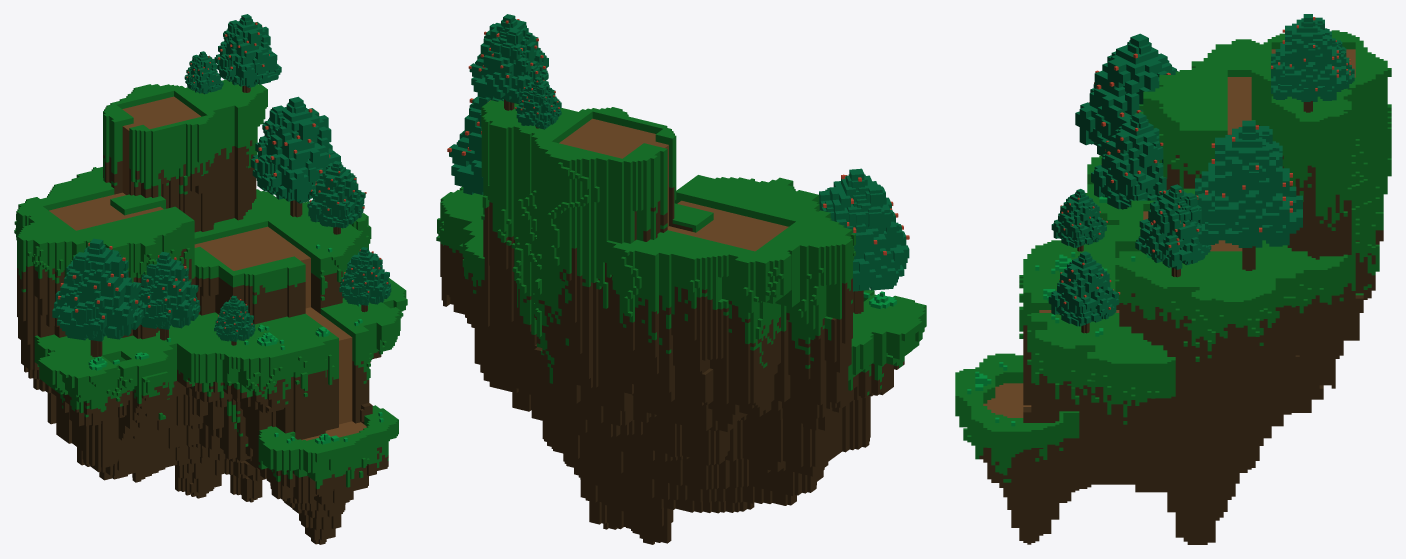
File: 三层瀑布.FBX
The picture shows the model from 3 angles, left to right: view 1: azimuth 30°, elevation 25°; view 2: azimuth 150°, elevation 25°; view 3: azimuth 270°, elevation 25°; orthographic projection. The views are drawn at different scales.
Visible parts, largest first — view 1: default009, default005, default001, default006, default003, default002, default008, default007, default004; view 2: default009, default005, default003, default001, default004; view 3: default009, default001, default005, default003, default006, default002, default008, default007.
Boxes of the visible parts, x1,y1,x2,y2 form: default009: (14, 79, 407, 544); default005: (52, 238, 143, 357); default001: (250, 96, 340, 217); default006: (138, 251, 200, 340); default003: (214, 14, 281, 92); default002: (307, 161, 366, 234); default008: (339, 247, 391, 312); default007: (214, 295, 255, 345); default004: (184, 51, 223, 94); default009: (436, 100, 926, 544); default005: (819, 168, 909, 313); default003: (468, 14, 548, 110); default001: (447, 92, 503, 194); default004: (515, 77, 561, 129); default009: (955, 30, 1391, 544); default001: (1195, 120, 1302, 270); default005: (1075, 33, 1178, 155); default003: (1271, 14, 1345, 112); default006: (1091, 113, 1166, 209); default002: (1135, 184, 1211, 277); default008: (1048, 251, 1120, 333); default007: (1051, 189, 1107, 251).
Size of the model in its own units: 126 by 152 by 109.
2 materials, 2 textured.
